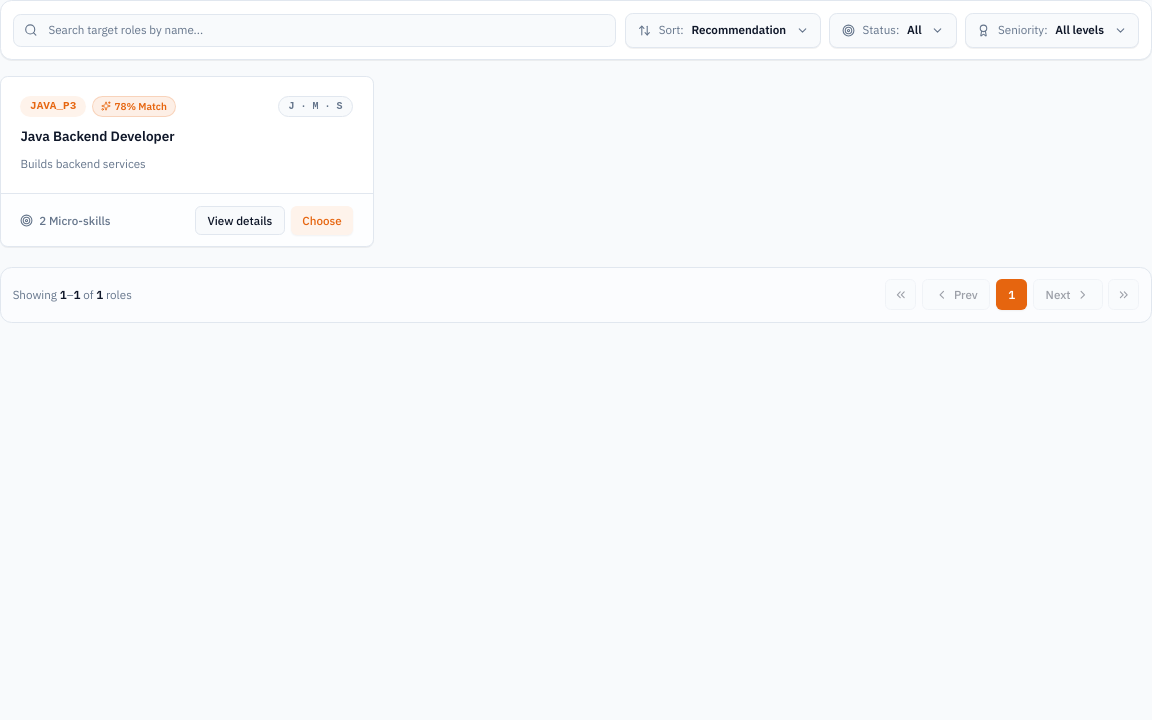
Test: TargetRoleBrowsePanel selection flow › cancels an initial choice without mutating
Click the button "Choose" at (322, 220), box x1=291 y1=206 x2=353 y2=235
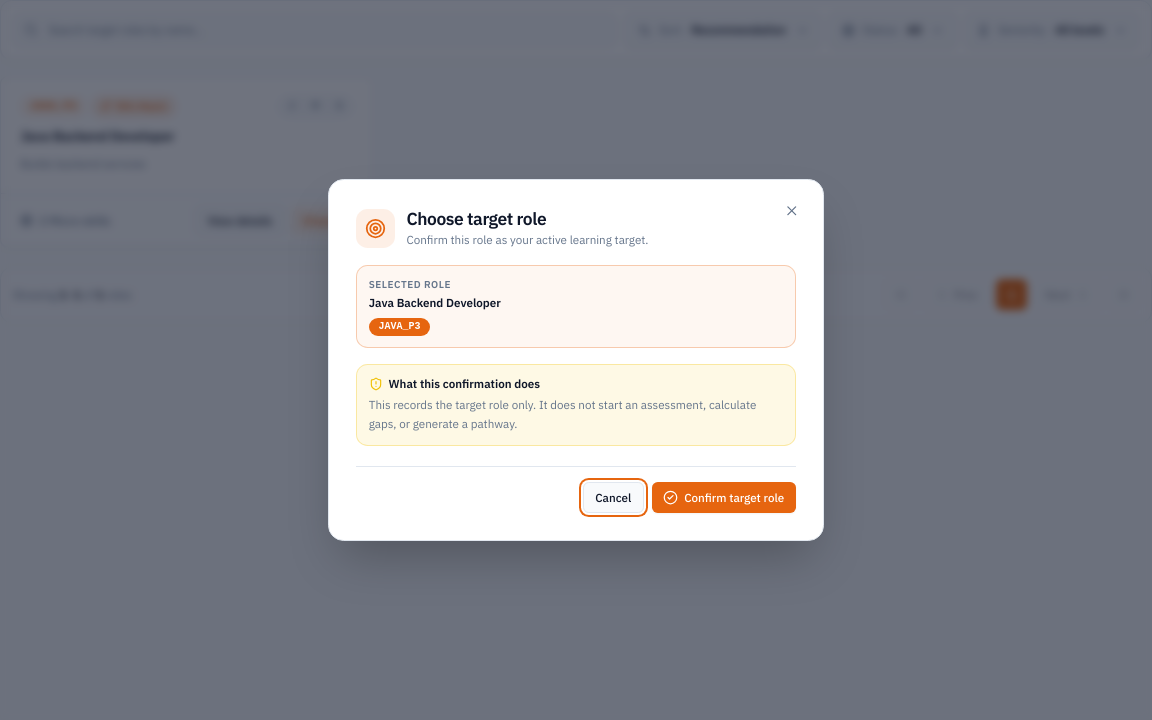
Expected: the heading "Choose target role" is shown, x1=406 y1=207 x2=546 y2=230
Click the button "Cancel" at (613, 498), box x1=583 y1=482 x2=644 y2=513
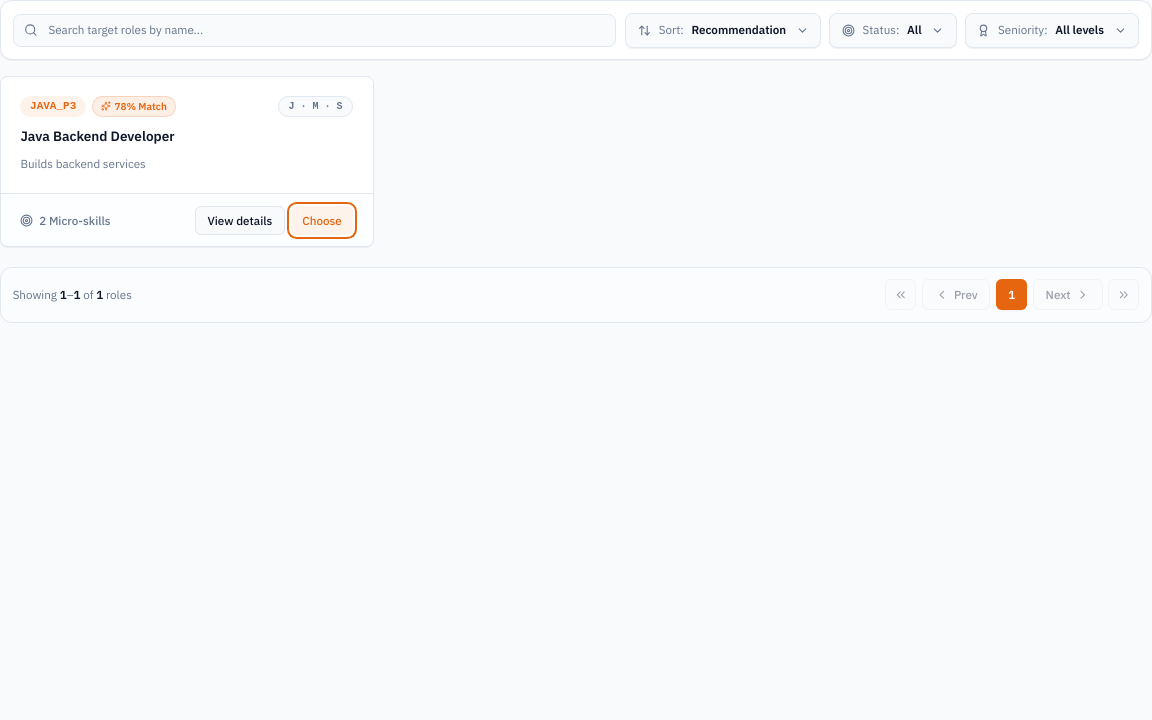
Expected: the heading "Choose target role" is gone
